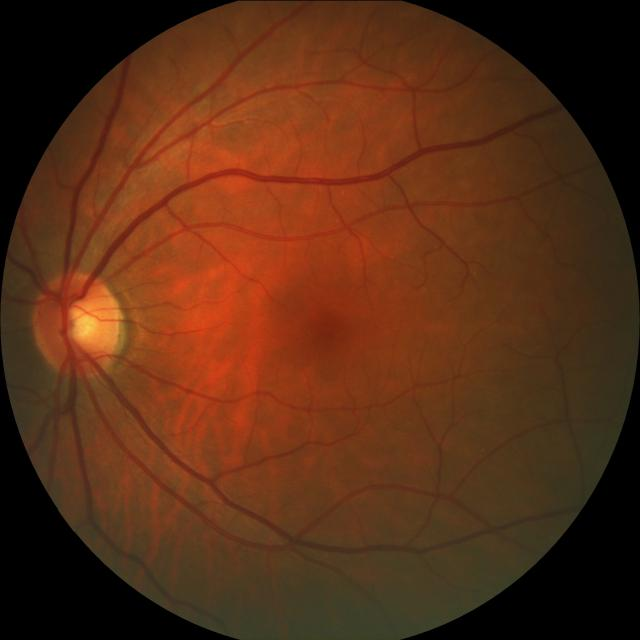OC: (64, 299, 100, 343)
OD: (34, 268, 124, 375)
